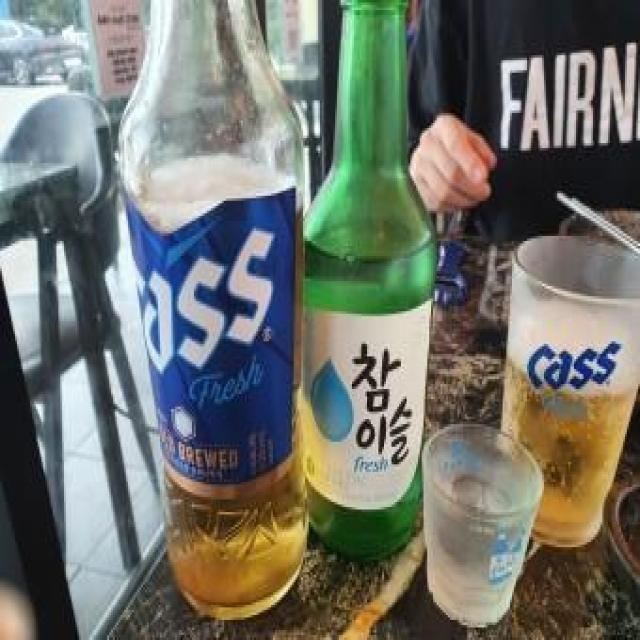beer-bottle: (115, 0, 322, 620)
soju-bottle: (307, 0, 435, 577)
